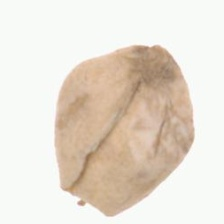L3: (58, 177, 114, 218)
L4: (54, 44, 195, 217)
